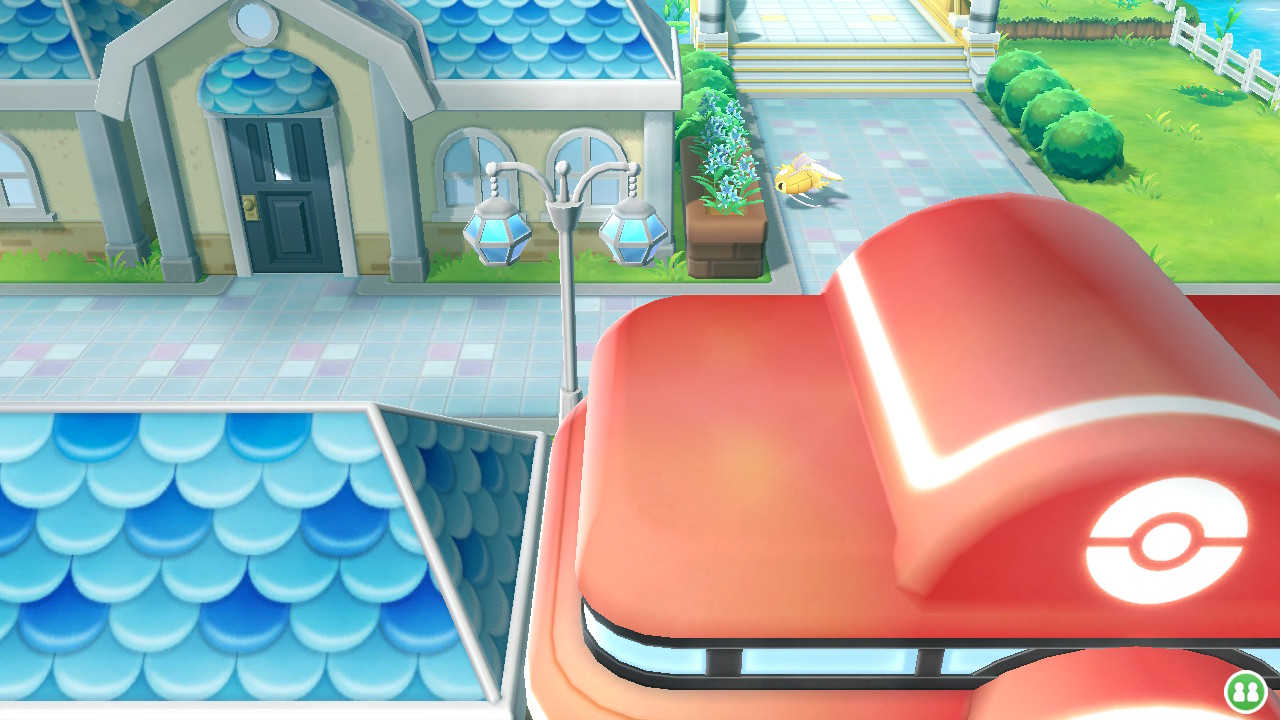Golden: (773, 152, 846, 197)
